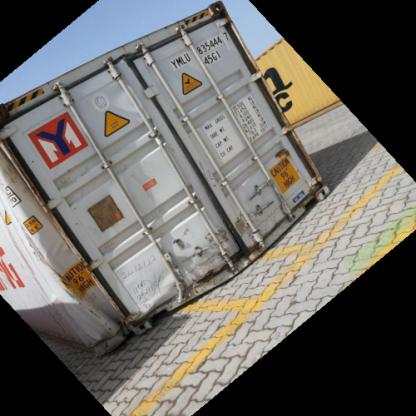Damage: (2, 99, 107, 336), (122, 251, 178, 302), (226, 191, 280, 233), (268, 141, 296, 164)
